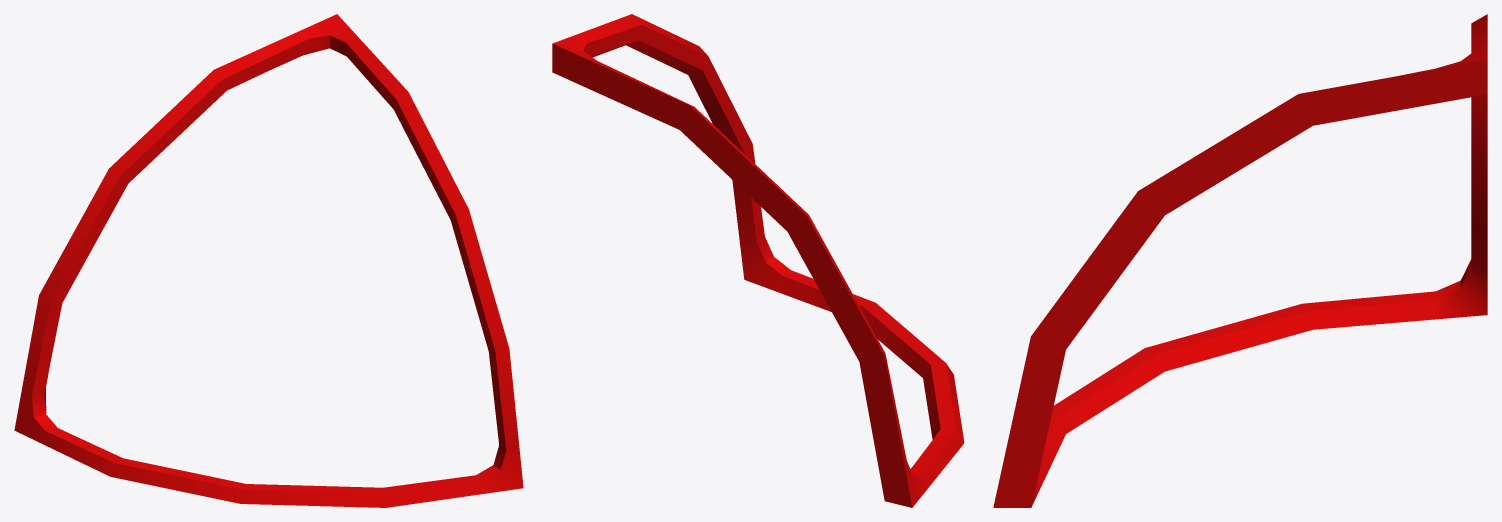
File: window_light_corner.fbx
3 renders of one model, left to right at view 1: azimuth 30°, elevation 25°; view 2: azimuth 150°, elevation 25°; view 3: azimuth 270°, elevation 25°, orthographic. The views are drawn at different scales.
Parts seen in each view (by area): view 1: window_light_frame; view 2: window_light_frame; view 3: window_light_frame.
Boxes of the visible parts, x1,y1,x2,y2 form: window_light_frame: (14,14,523,507); window_light_frame: (552,14,964,507); window_light_frame: (993,14,1487,507).
Size of the model in its own units: 52 by 52 by 52.
